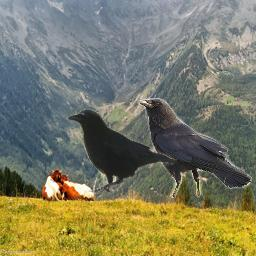Crow: (137, 98, 252, 198), (64, 107, 177, 192)
